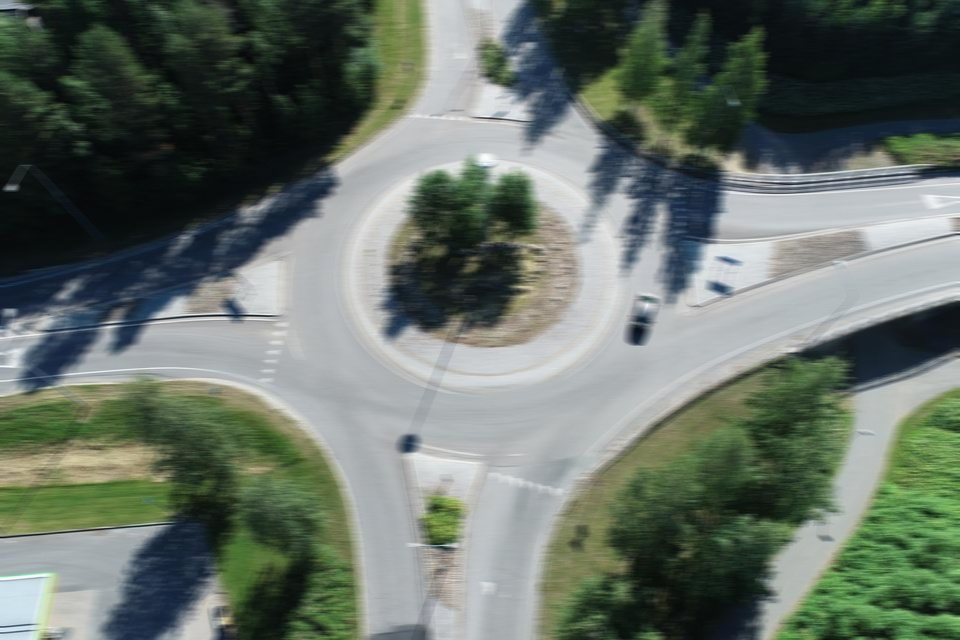roundabout: (212, 66, 722, 518)
